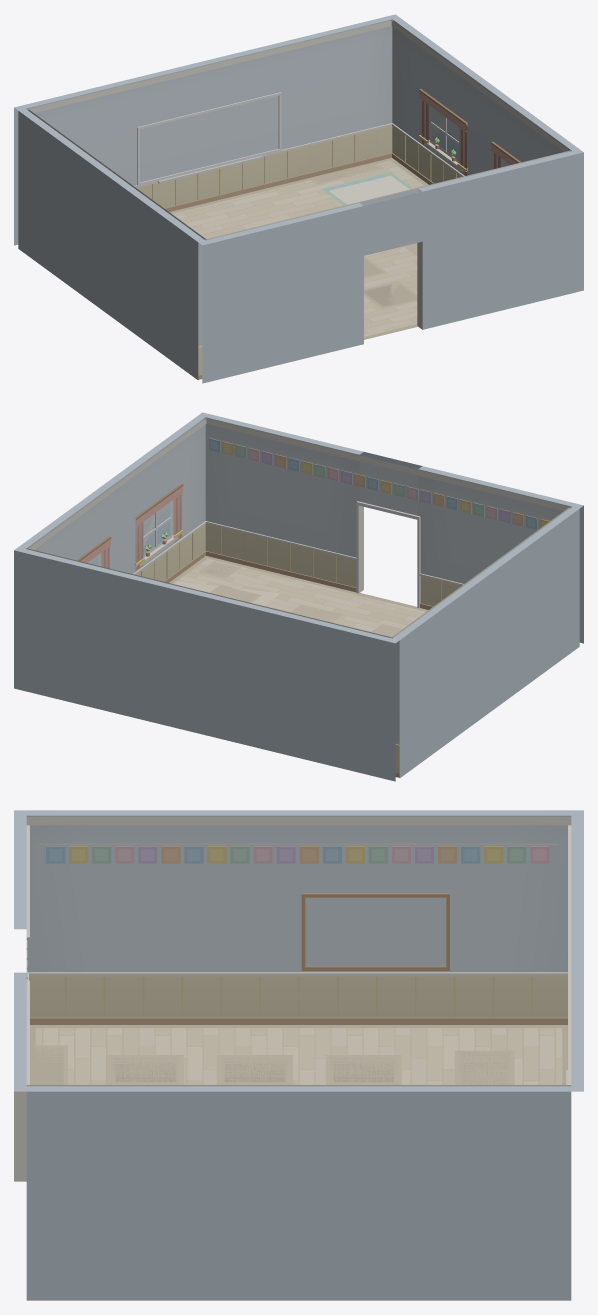
Rendered from k2_interior_shell.glb.
The picture shows the model from 3 angles, top to bottom: view 1: azimuth 30°, elevation 25°; view 2: azimuth 150°, elevation 25°; view 3: azimuth 270°, elevation 25°; orthographic projection. The views are drawn at different scales.
Parts seen in each view (by area): view 1: dinding_selatan, dinding_utara, dinding_barat, dinding_timur, lantai; view 2: dinding_utara, dinding_selatan, dinding_barat, dinding_timur, lantai; view 3: dinding_timur, dinding_barat, lantai, dinding_selatan, dinding_utara.
Part boxes in pixels (x1,y1,x2,y2): dinding_selatan: (198, 149, 583, 383); dinding_utara: (14, 14, 399, 245); dinding_barat: (18, 108, 206, 379); dinding_timur: (390, 17, 579, 184); lantai: (169, 158, 428, 339); dinding_utara: (14, 547, 399, 781); dinding_selatan: (198, 412, 583, 643); dinding_barat: (391, 506, 579, 777); dinding_timur: (18, 415, 207, 582); lantai: (169, 556, 428, 637); dinding_timur: (26, 1085, 571, 1300); dinding_barat: (26, 810, 571, 1024); lantai: (30, 1025, 567, 1084); dinding_selatan: (14, 810, 29, 1181); dinding_utara: (566, 810, 583, 1091).
Bounding box in the file's own units: 10.4 × 3.6 × 8.9.
